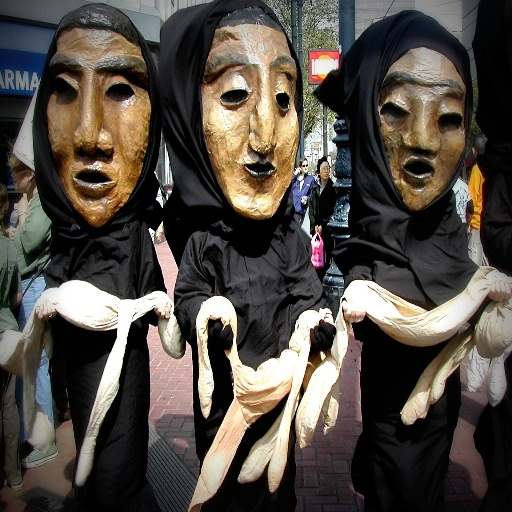hand: (308, 318, 336, 354), (208, 320, 234, 352), (340, 299, 366, 325), (35, 296, 56, 320), (489, 282, 511, 303), (153, 302, 172, 320), (17, 193, 28, 217), (6, 226, 17, 241), (300, 195, 306, 205), (295, 165, 301, 174), (316, 225, 322, 234)
